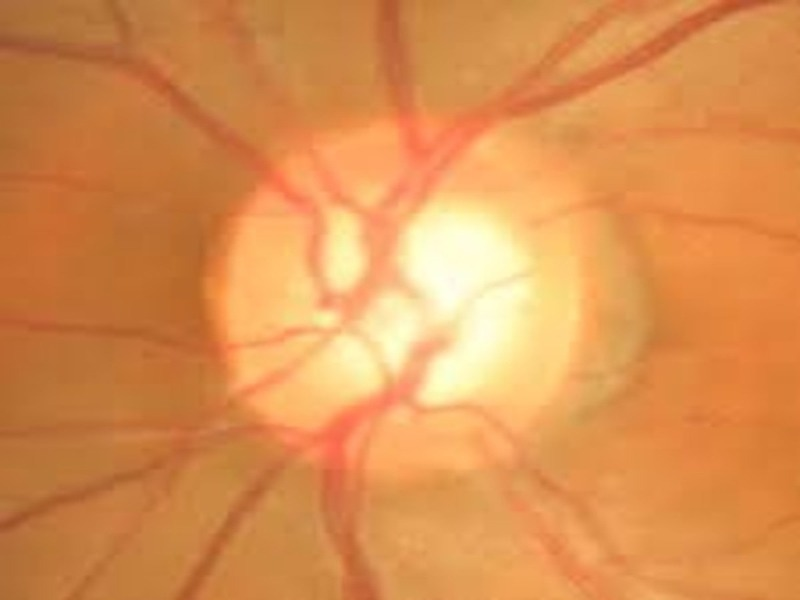Optic Cup: (358, 196, 533, 408)
Optic Disc: (210, 109, 654, 476)
